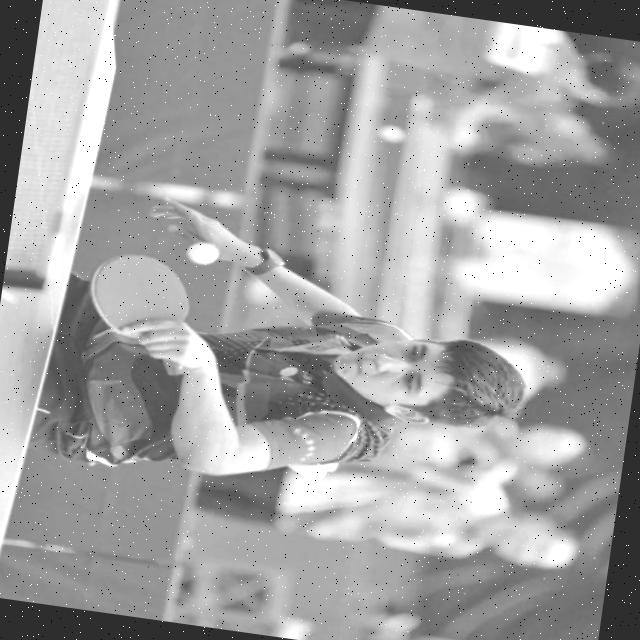ping-pong-ball: (179, 238, 223, 272)
